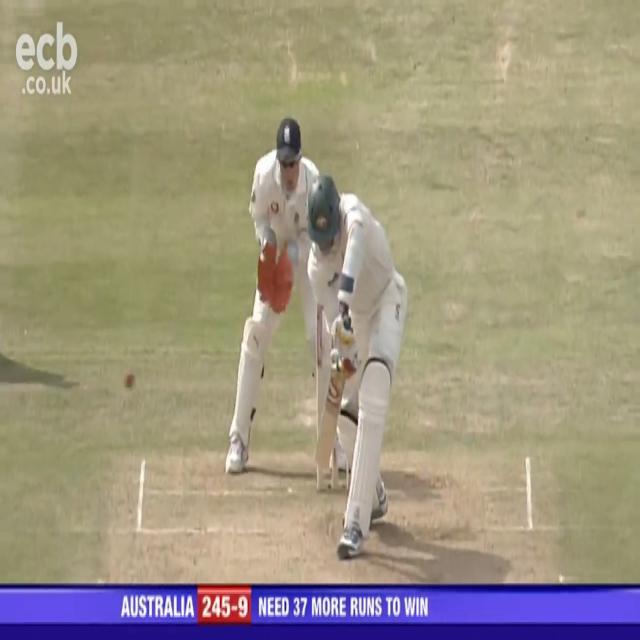ball: (117, 367, 141, 393)
